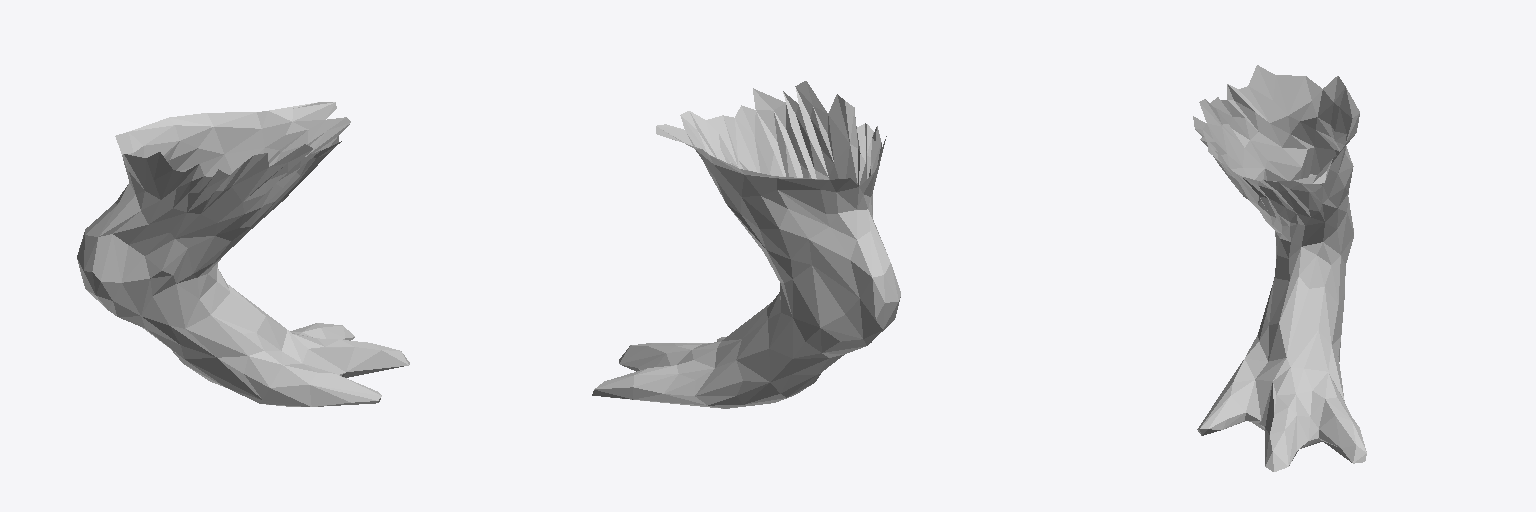
File: pataTrasIzqCapi.obj
3 views of the same model, side by side, from view 1: azimuth 30°, elevation 25°; view 2: azimuth 150°, elevation 25°; view 3: azimuth 270°, elevation 25° (orthographic).
Visible parts, largest first — view 1: pataTrasIzqCapi; view 2: pataTrasIzqCapi; view 3: pataTrasIzqCapi.
Part boxes in pixels (x1,y1,x2,y2): pataTrasIzqCapi: (77,102,409,406); pataTrasIzqCapi: (592,81,900,408); pataTrasIzqCapi: (1193,65,1366,471).
Size of the model in its own units: 0.2293 by 0.206 by 0.1141.